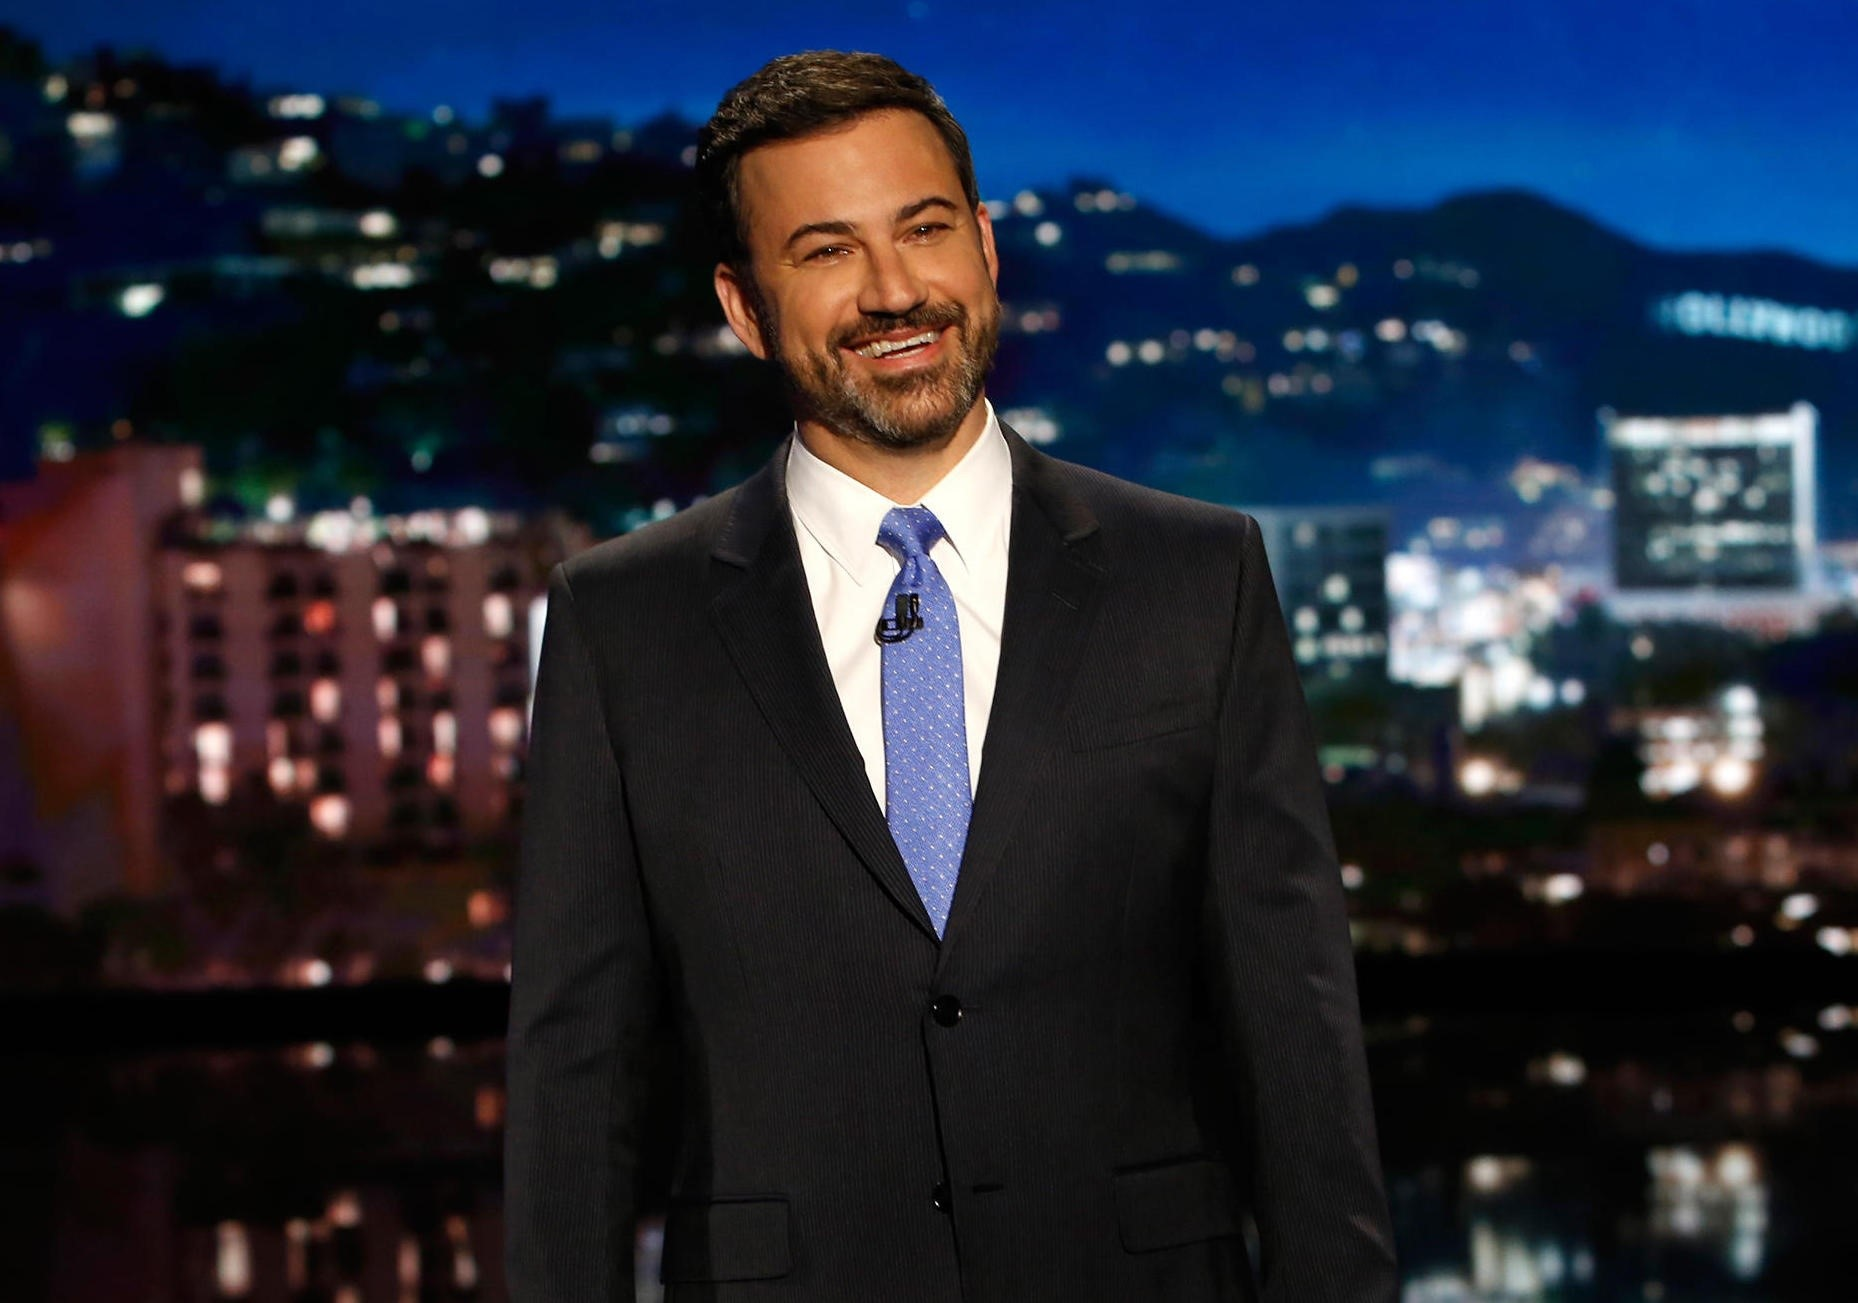face_no_mask: (700, 55, 996, 448)
